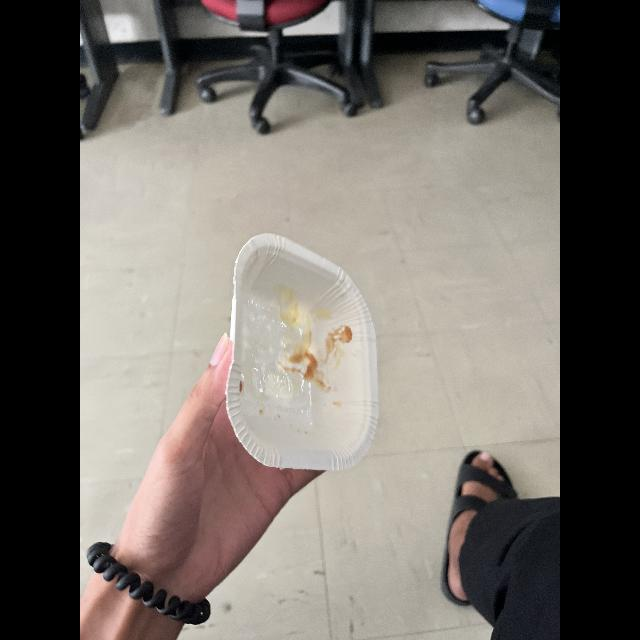cardboard_bowl: (218, 229, 386, 471)
